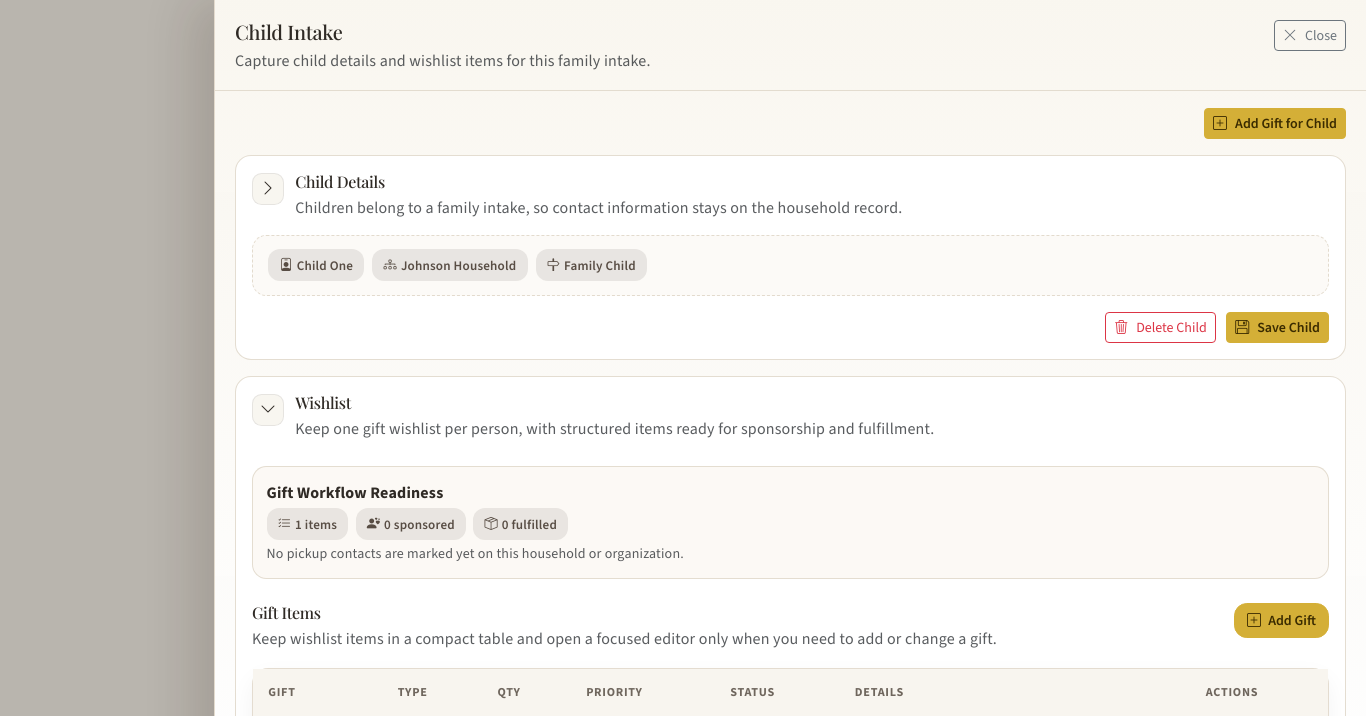
Test: CampaignPeopleRecipientDrawer › offers a direct add-gift action after saving a child in a family intake flow
The image size is (1366, 716).
Click the button "Add Gift for Child": (1275, 124) [1204, 108, 1346, 139]
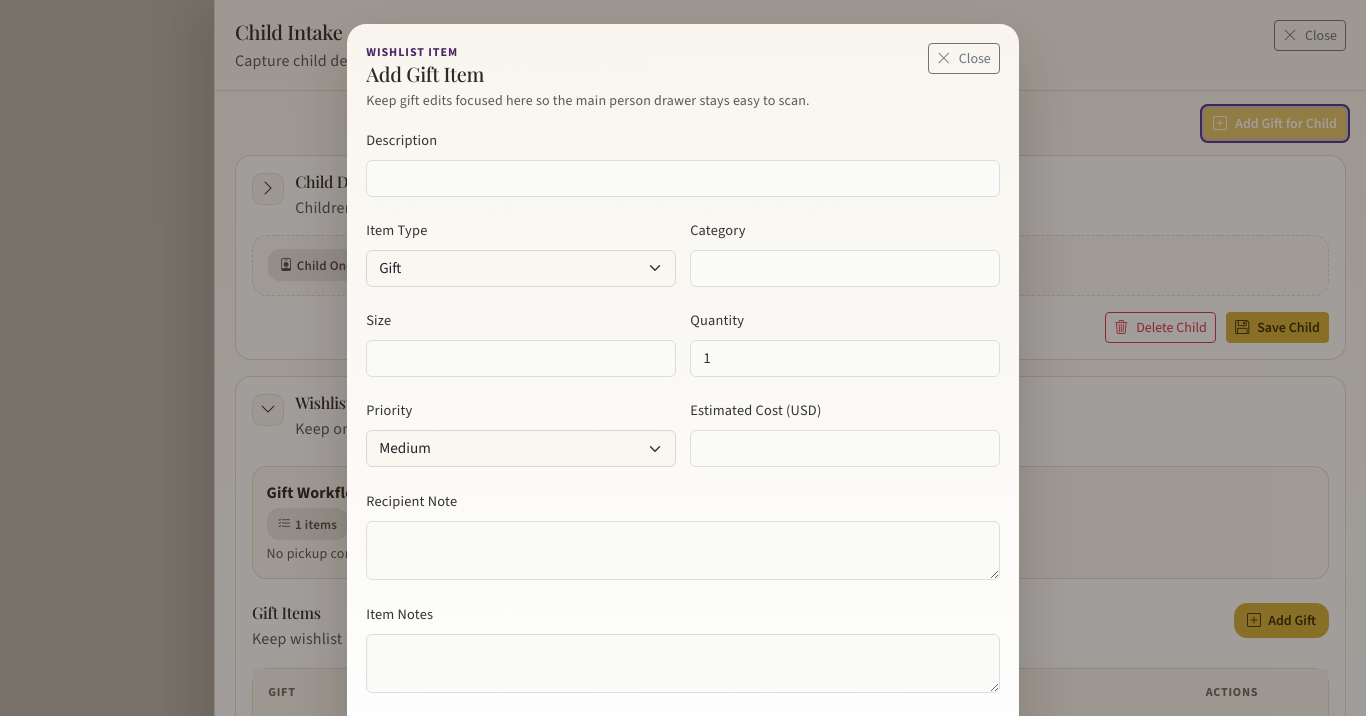
Expected: the heading "Add Gift Item" is shown, [366, 60, 484, 87]
